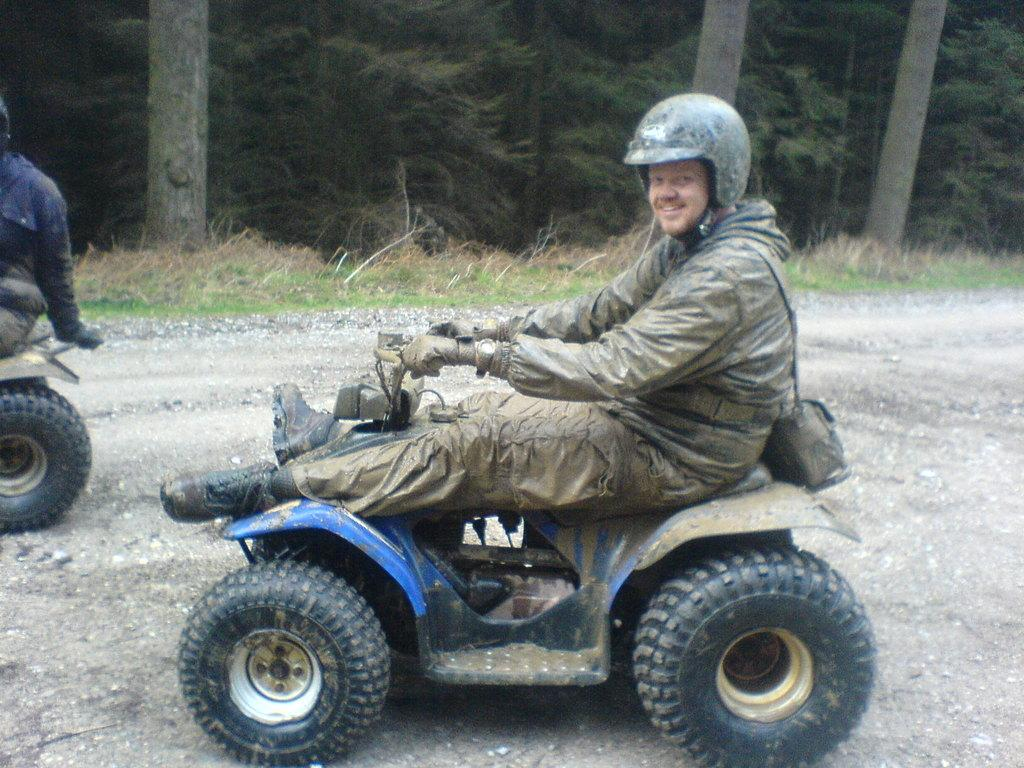helmet: (622, 93, 753, 232)
